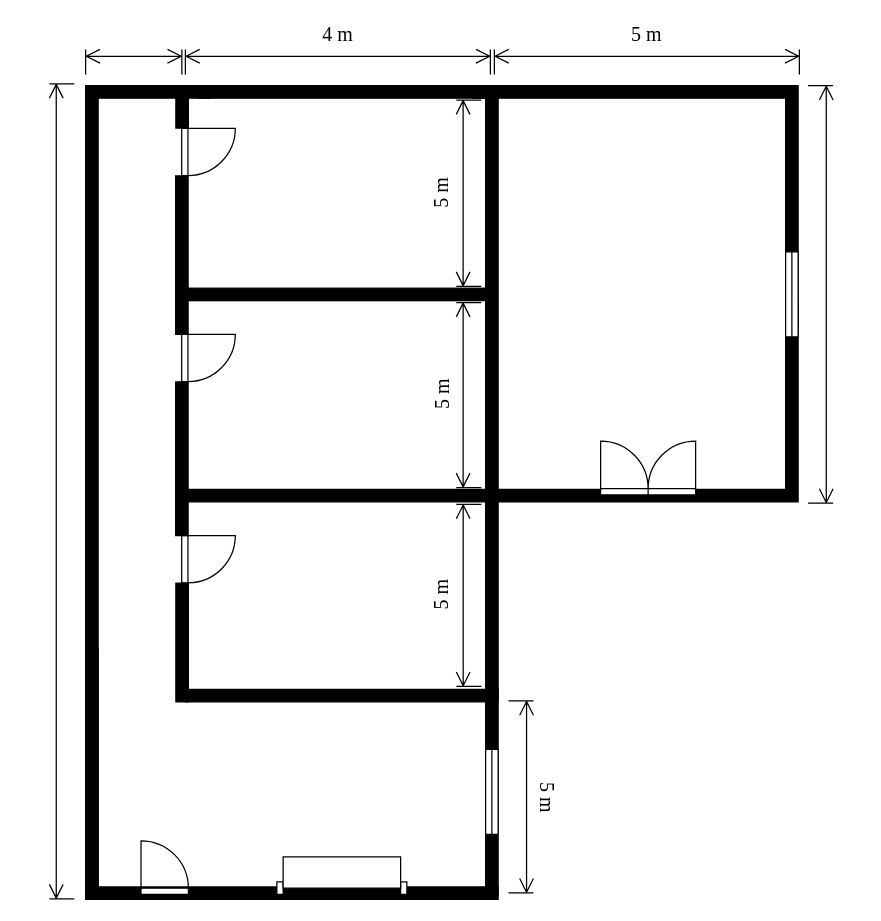
Image size: 881x921. Some labels were removed from this diagram. The box of each missing label's shape, as (x1, y1, x2, y2) in pixels:
1 m: (84, 48, 182, 74)
10 m: (807, 84, 833, 503)
20 m: (48, 82, 74, 899)
